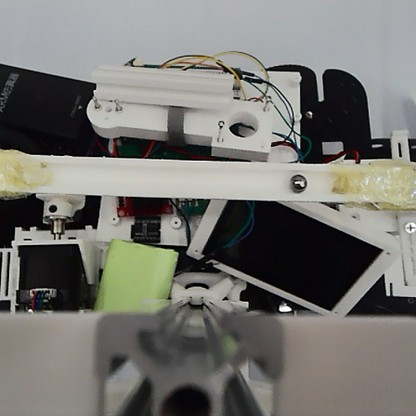ironball: (287, 171, 307, 194)
